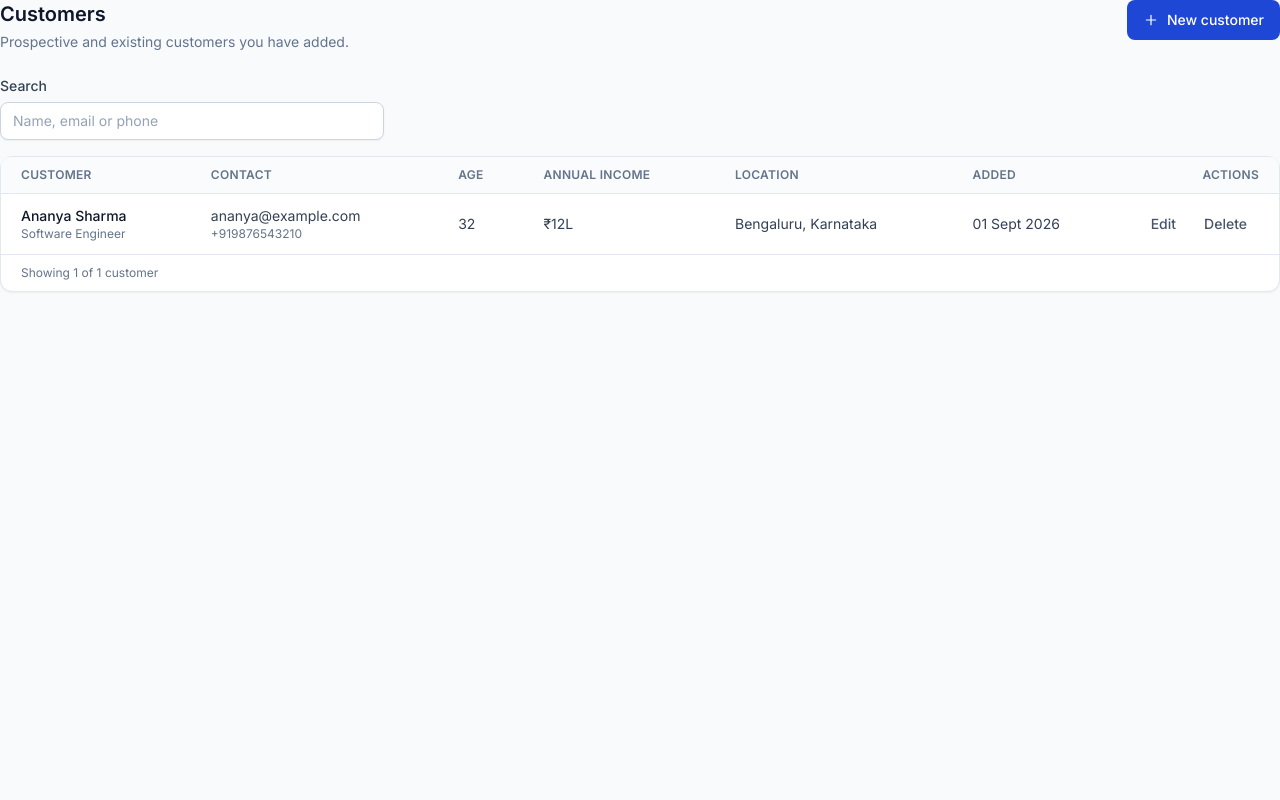
Test case: <CustomersPage /> row actions › cancelling closes the dialog and deletes nothing
Check: the text "ananya@example.com" is shown, box [211,207,360,224]
Click the button with aria-label "Delete Ananya Sharma" at (1226, 224), box [1192,208,1259,240]
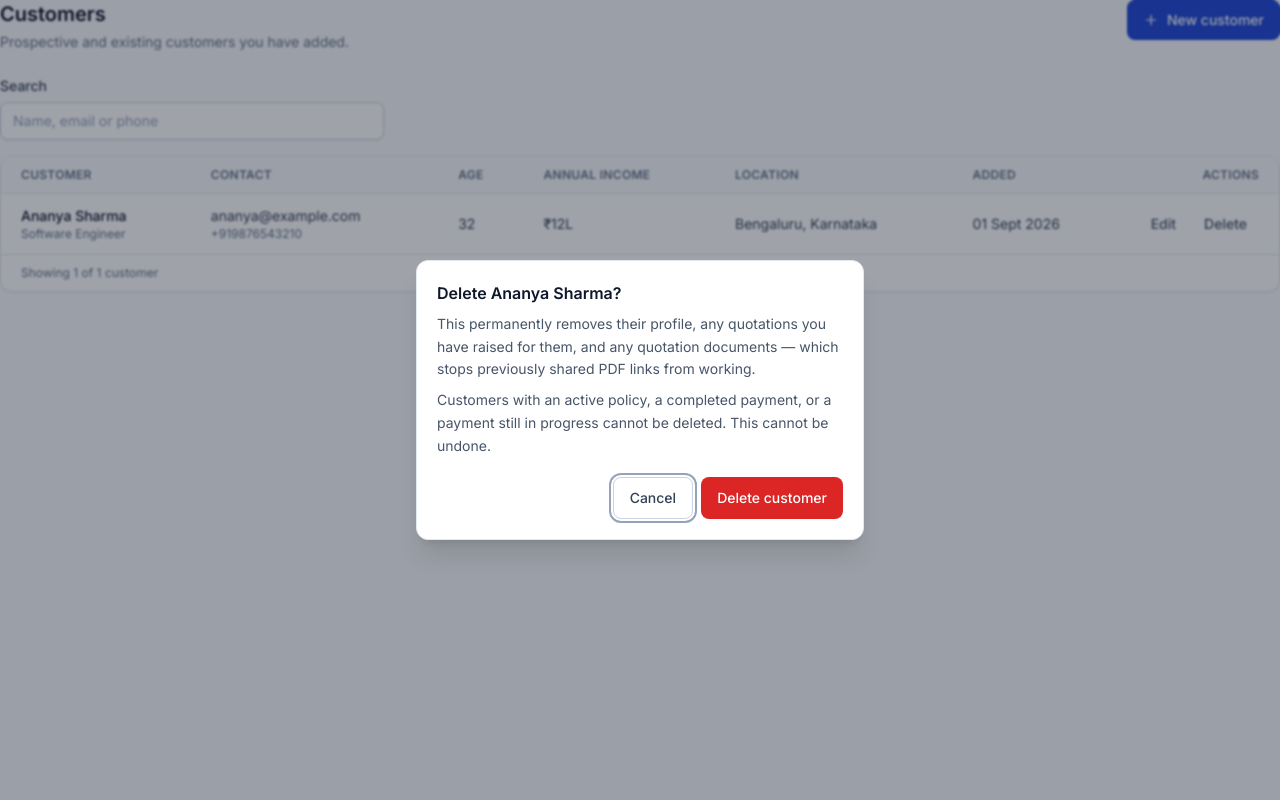
Click the button "Cancel" at (653, 498), box [613,477,693,519]
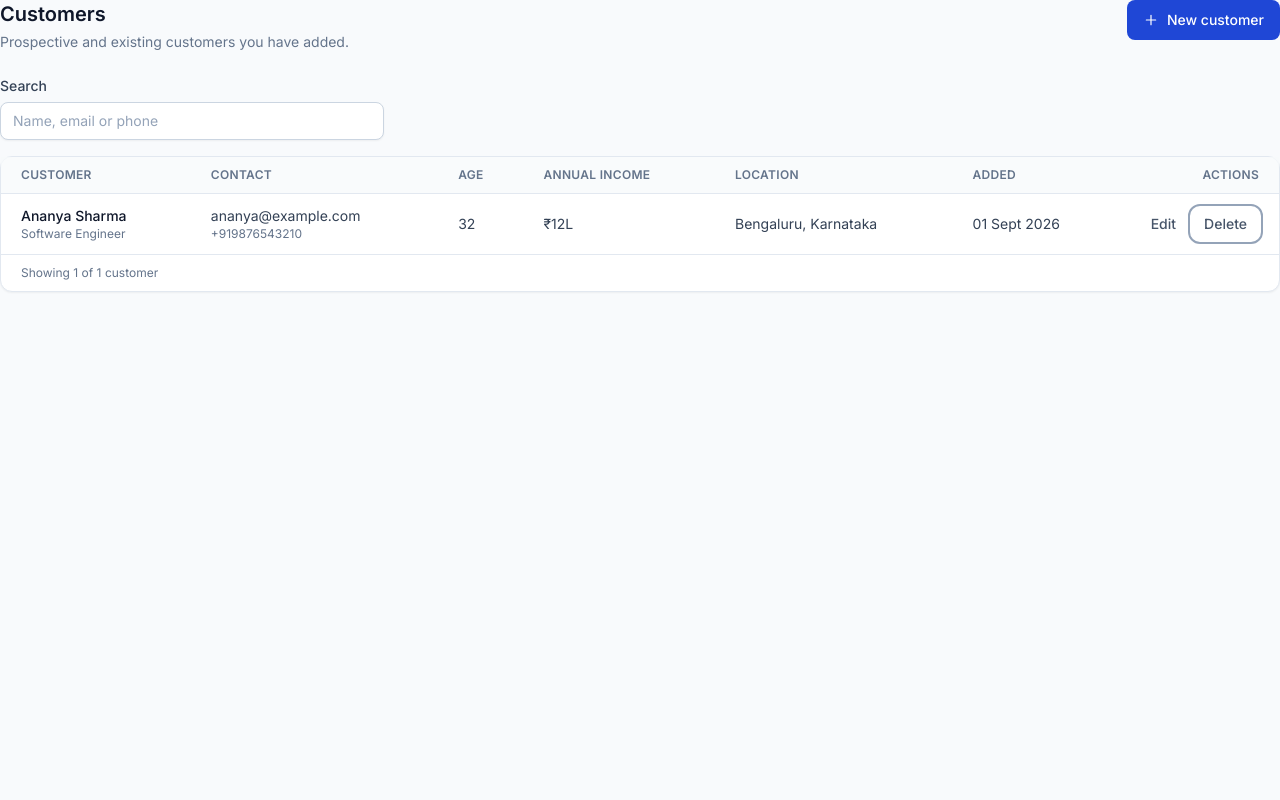
Check: the dialog is gone
